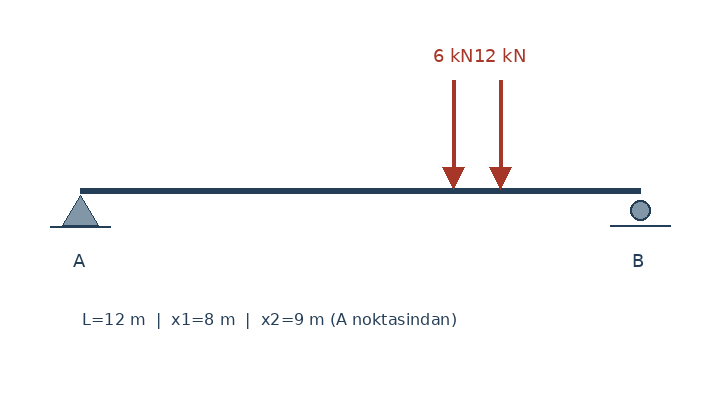pin_support: (61, 190, 99, 226)
point_load: (439, 76, 467, 190), (486, 76, 514, 190)
roller_support: (625, 196, 655, 227)
